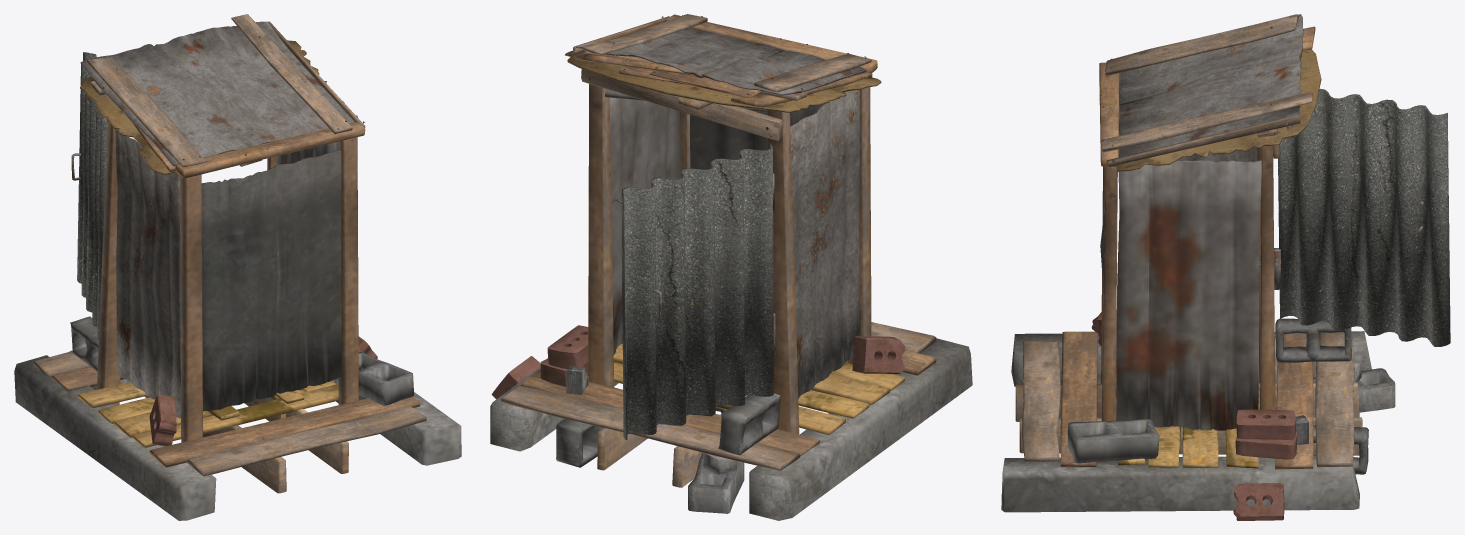
Rendered from toilet_toilet_0.glb.
The picture shows the model from 3 angles, left to right: view 1: azimuth 30°, elevation 25°; view 2: azimuth 150°, elevation 25°; view 3: azimuth 270°, elevation 25°; orthographic projection. The views are drawn at different scales.
Parts seen in each view (by area): view 1: toilet_toilet_0; view 2: toilet_toilet_0; view 3: toilet_toilet_0.
Part boxes in pixels (x1,y1,x2,y2): toilet_toilet_0: (14,14,461,520); toilet_toilet_0: (490,14,972,520); toilet_toilet_0: (1001,14,1450,520).
Bounding box in the file's own units: 1.92 × 2.12 × 2.29.
Materials: 1 (1 with a texture image).
